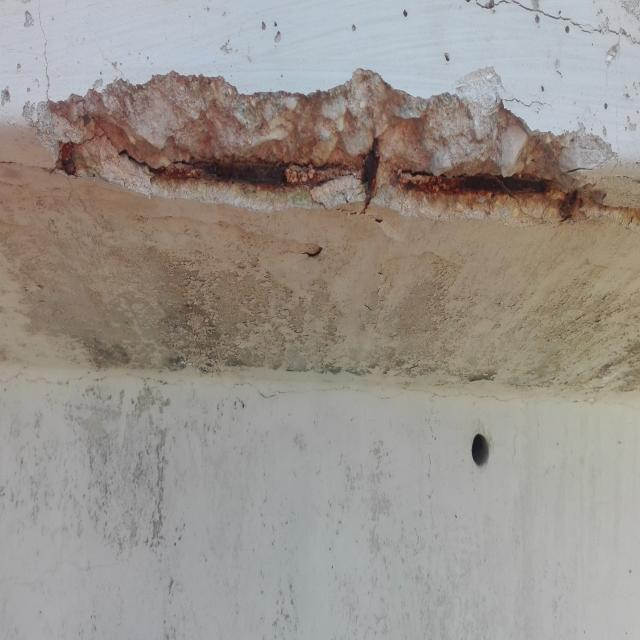corrosion: (31, 52, 640, 252)
